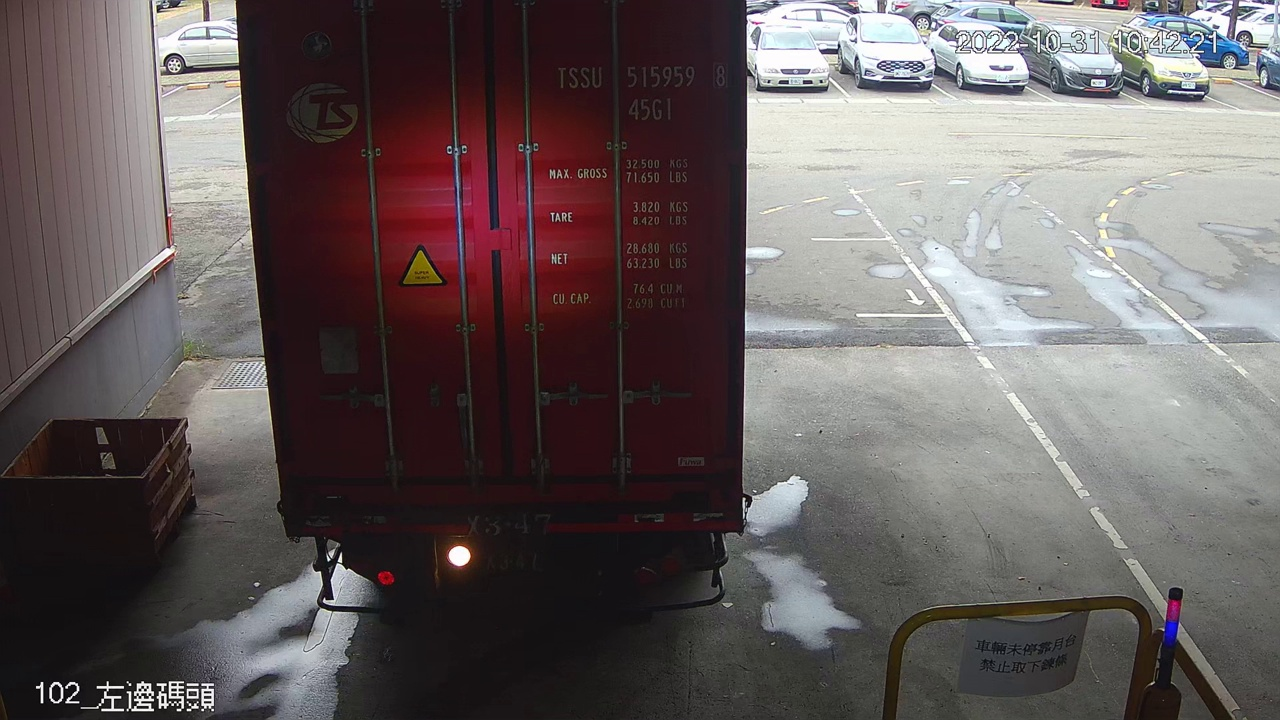container: (549, 58, 733, 130)
